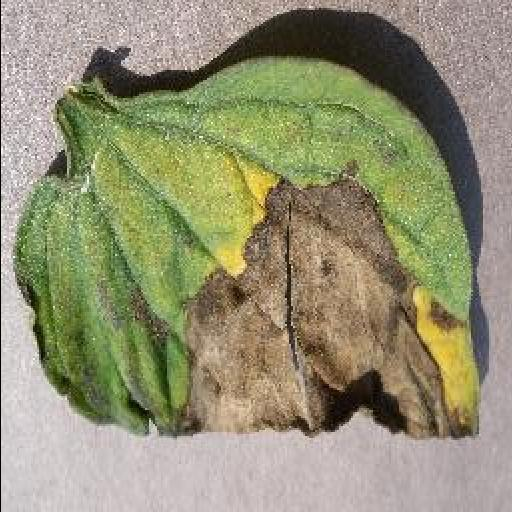disease_tomato: (15, 51, 481, 441)
